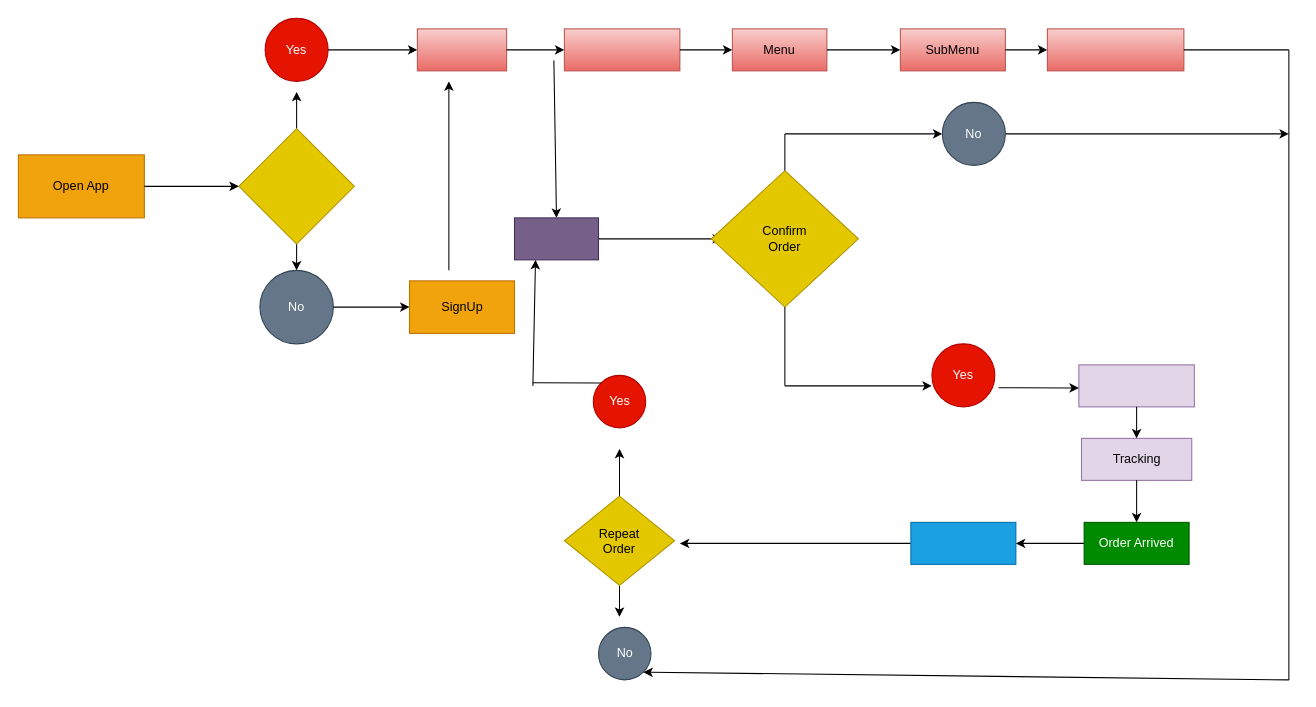
Image size: 1316x707. Some labels were removed from this diagram. Here are the shapes that lost their labels. From the top down, the centre of each, then its label:
(461,49): Home
(621,49): Restaurant
(1115,49): Select Product
(296,186): Logged in?
(555,238): Cart
(1136,385): CheckOut
(963,542): My Order
